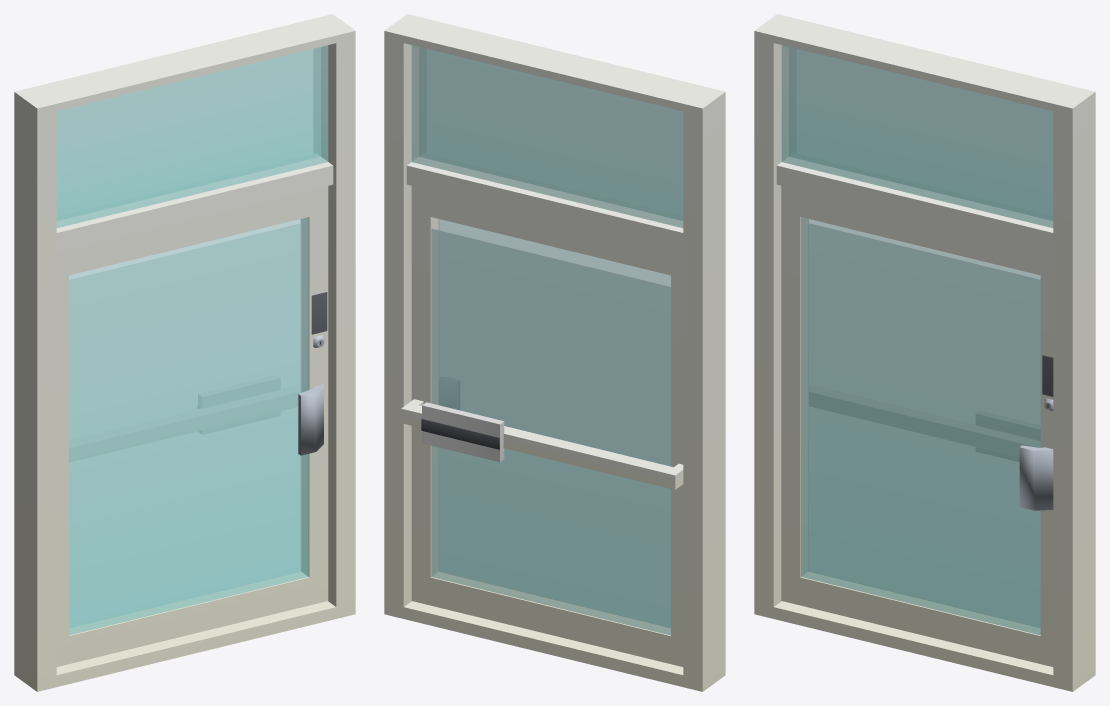
Rendered from 2m_DoorFrame_Storefront_Laundromat.fbx.
3 renders of one model, left to right at view 1: azimuth 30°, elevation 25°; view 2: azimuth 150°, elevation 25°; view 3: azimuth 330°, elevation 25°, orthographic.
Parts seen in each view (by area): view 1: 2m_Door_Storefront.Laundromat, 2m_DoorFrame_Storefront.Laundromat; view 2: 2m_Door_Storefront.Laundromat, 2m_DoorFrame_Storefront.Laundromat; view 3: 2m_Door_Storefront.Laundromat, 2m_DoorFrame_Storefront.Laundromat.
Part boxes in pixels (bbox=[...]): 2m_Door_Storefront.Laundromat: bbox=[56, 186, 328, 666]; 2m_DoorFrame_Storefront.Laundromat: bbox=[14, 14, 355, 691]; 2m_Door_Storefront.Laundromat: bbox=[401, 186, 683, 666]; 2m_DoorFrame_Storefront.Laundromat: bbox=[384, 14, 725, 691]; 2m_Door_Storefront.Laundromat: bbox=[781, 185, 1053, 666]; 2m_DoorFrame_Storefront.Laundromat: bbox=[754, 14, 1095, 691].
Bounding box in the file's own units: 200 × 350 × 35.93.
2 materials, 2 textured.
